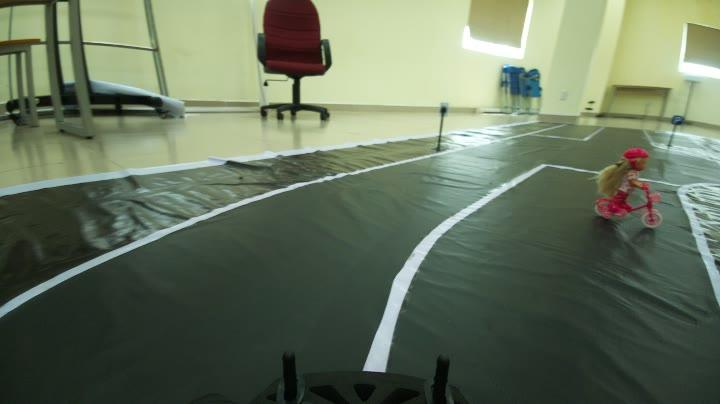pedestrian: (597, 140, 668, 225)
